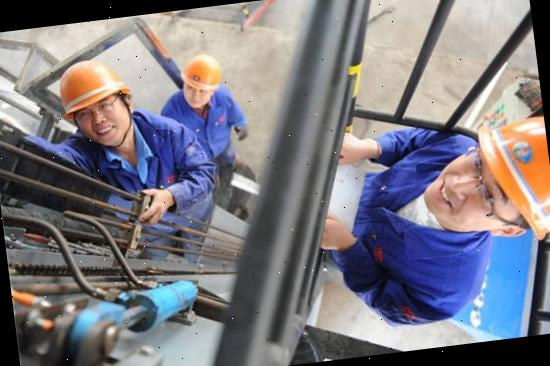helmet: (470, 115, 550, 240), (42, 48, 140, 123), (179, 52, 224, 98)
wear: (350, 138, 456, 324), (82, 129, 212, 226), (166, 99, 236, 168)
